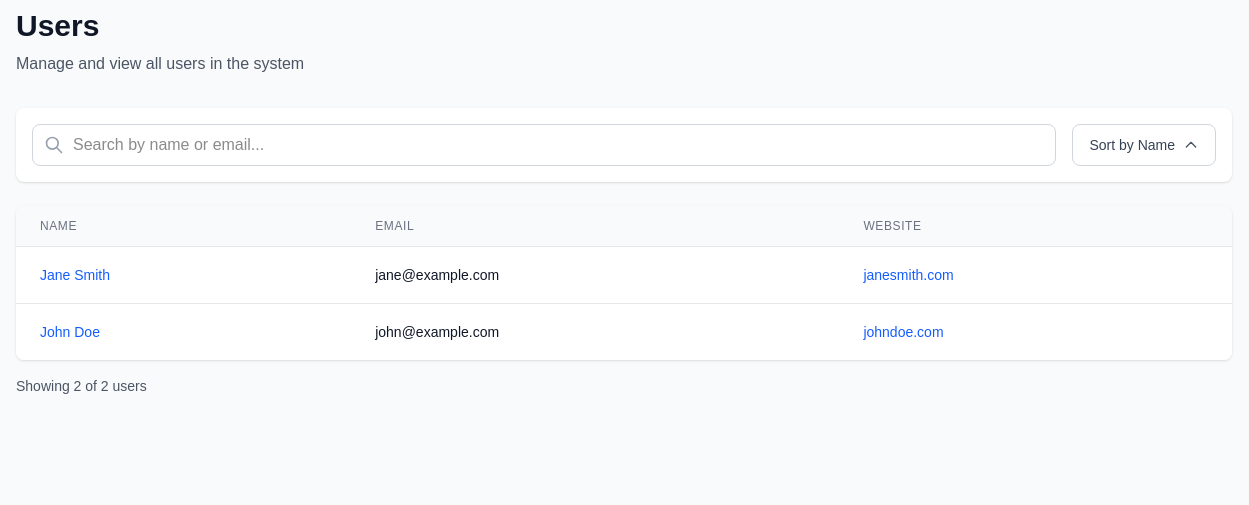
Test: UsersPage › shows empty state when no users match search
The image size is (1249, 505).
Check: the link "John Doe" is shown, box [40,324,100,340]
Type "nonexistent" into the field with placeholder "Search by name or email..." at (544, 145), box [32,124,1056,166]
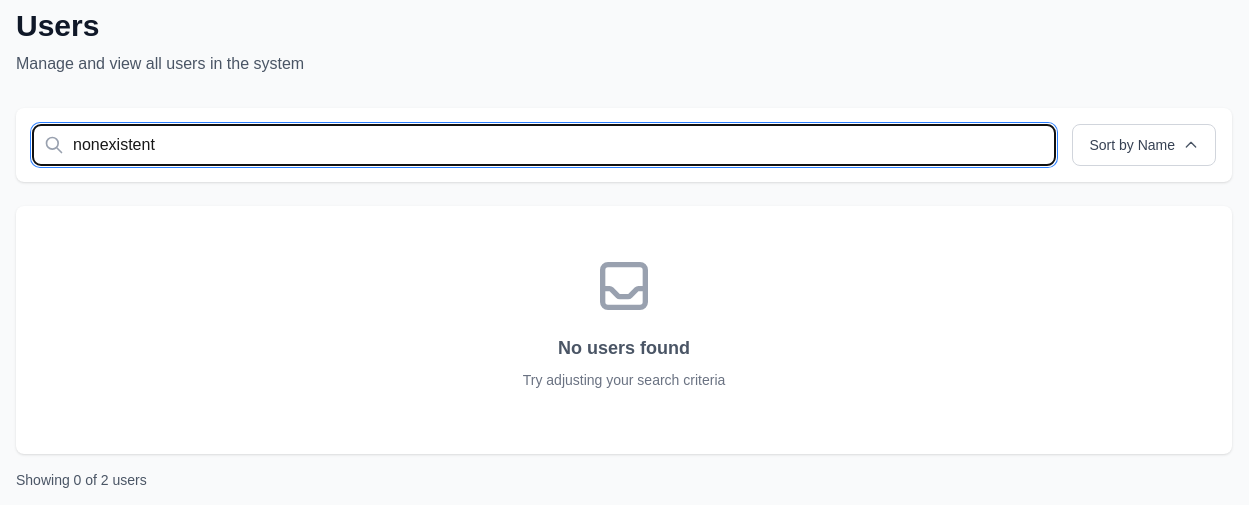
Check: the text "No users found" is shown, box [558,338,690,358]
